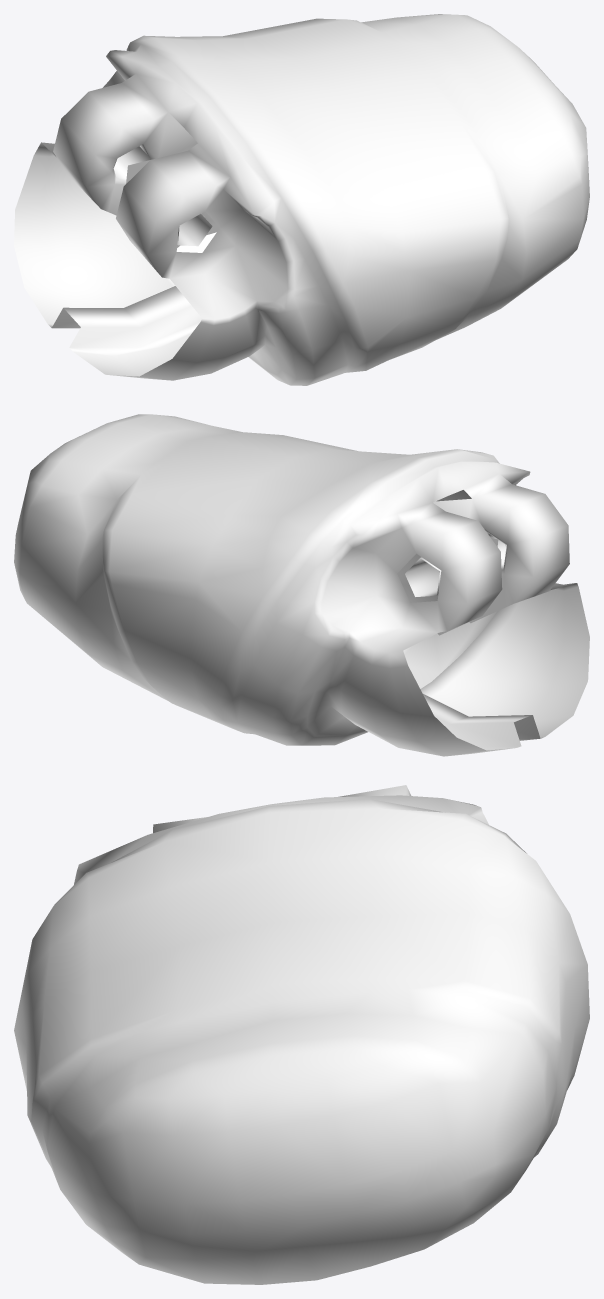
The model's file is LFinger13.dae.
3 renders of one model, top to bottom at view 1: azimuth 30°, elevation 25°; view 2: azimuth 150°, elevation 25°; view 3: azimuth 270°, elevation 25°, orthographic. The views are drawn at different scales.
Visible parts, largest first — view 1: LFinger13; view 2: LFinger13; view 3: LFinger13.
Boxes of the visible parts, x1,y1,x2,y2 form: LFinger13: (14, 14, 589, 385); LFinger13: (14, 414, 589, 756); LFinger13: (14, 785, 589, 1284).
Bounding box in the file's own units: 0.204 × 0.1613 × 0.1124.
Materials: 1 (1 with a texture image).
